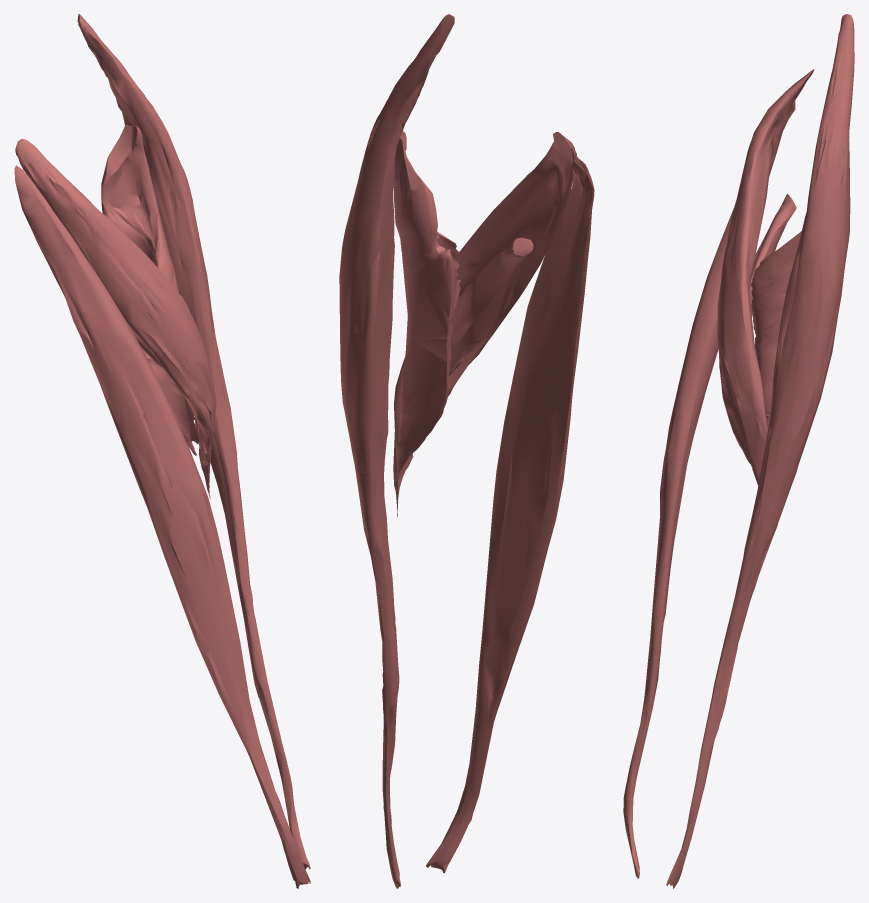
The model's file is muscular-forearm-left.glb.
3 views of the same model, side by side, from view 1: azimuth 30°, elevation 25°; view 2: azimuth 150°, elevation 25°; view 3: azimuth 270°, elevation 25° (orthographic). The views are drawn at different scales.
Visible parts, largest first — view 1: bp3d_FMA38461_FJ1496M, bp3d_FMA38496_FJ1490M, bp3d_FMA38561_FJ1474M, bp3d_FMA38514_FJ1505M; view 2: bp3d_FMA38461_FJ1496M, bp3d_FMA38496_FJ1490M, bp3d_FMA38514_FJ1505M, bp3d_FMA38561_FJ1474M, bp3d_FMA38563_FJ1516M; view 3: bp3d_FMA38496_FJ1490M, bp3d_FMA38561_FJ1474M, bp3d_FMA38461_FJ1496M, bp3d_FMA38514_FJ1505M, bp3d_FMA38563_FJ1516M.
Part boxes in pixels (box(x1,y1,x2,y2)): bp3d_FMA38461_FJ1496M: box(14, 165, 310, 888); bp3d_FMA38496_FJ1490M: box(77, 14, 310, 869); bp3d_FMA38561_FJ1474M: box(15, 139, 216, 499); bp3d_FMA38514_FJ1505M: box(101, 125, 198, 455); bp3d_FMA38461_FJ1496M: box(426, 156, 594, 873); bp3d_FMA38496_FJ1490M: box(339, 14, 454, 888); bp3d_FMA38514_FJ1505M: box(393, 131, 460, 477); bp3d_FMA38561_FJ1474M: box(393, 132, 577, 517); bp3d_FMA38563_FJ1516M: box(398, 237, 533, 479); bp3d_FMA38496_FJ1490M: box(666, 14, 854, 888); bp3d_FMA38561_FJ1474M: box(717, 69, 814, 485); bp3d_FMA38461_FJ1496M: box(623, 85, 804, 878); bp3d_FMA38514_FJ1505M: box(751, 231, 801, 426); bp3d_FMA38563_FJ1516M: box(749, 194, 796, 317).
Bounding box in the file's own units: 0.0935 × 0.3225 × 0.0832.
